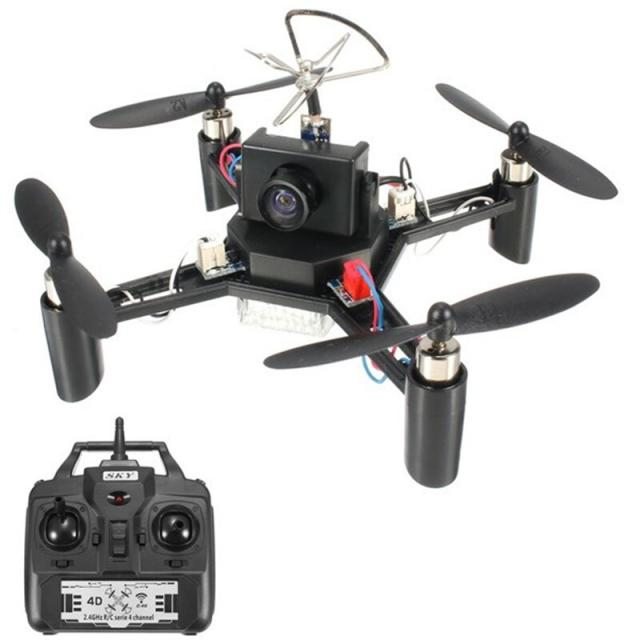drone: (9, 28, 633, 502)
